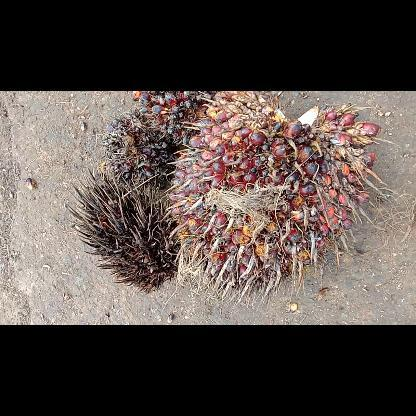Janjang kosong: (62, 164, 180, 296)
TBS abnormal: (98, 115, 178, 192), (132, 90, 216, 146)
TBS masak: (169, 90, 383, 310)
